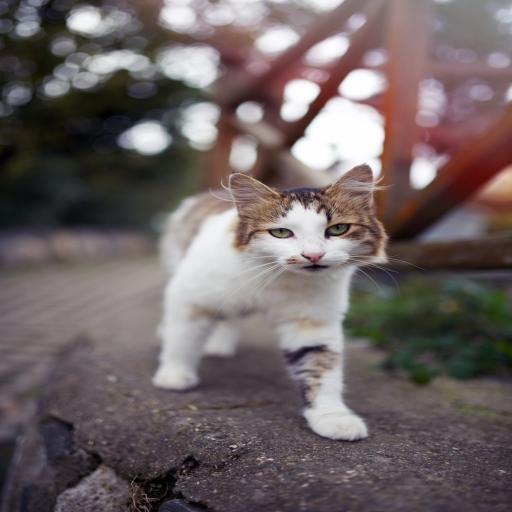cats: (152, 165, 387, 441)
